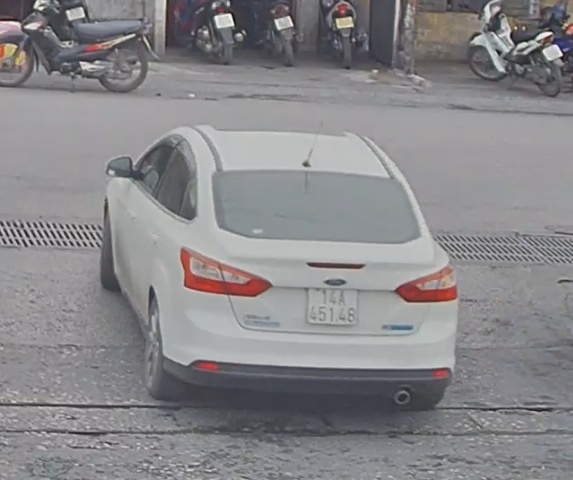vehicle plate: (303, 282, 362, 327)
